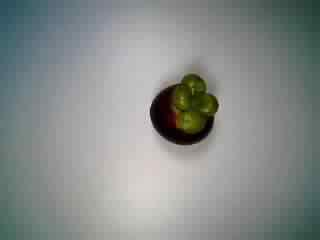mangosteen: (141, 71, 224, 146)
